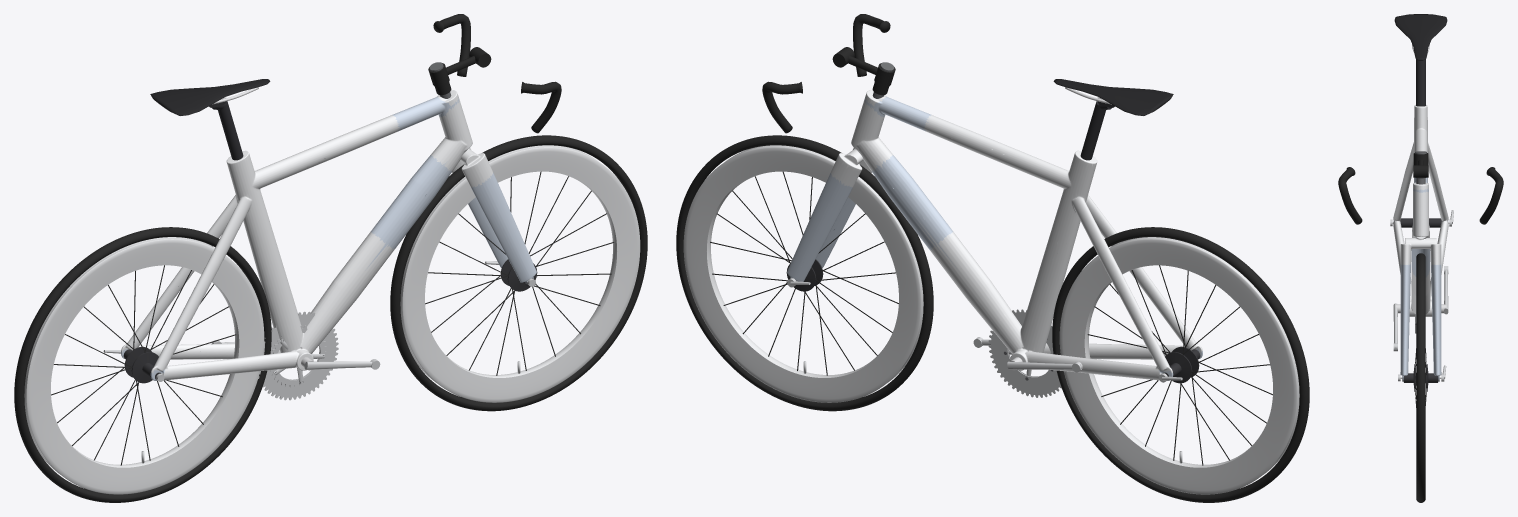
Rendered from bike_web_raw.glb.
3 renders of one model, left to right at view 1: azimuth 30°, elevation 25°; view 2: azimuth 150°, elevation 25°; view 3: azimuth 270°, elevation 25°, orthographic. The views are drawn at different scales.
Parts seen in each view (by area): view 1: frame, rim_rear, rim_front, tyre_rear, tyre_front, fork, spokes_front, chainrings, spokes_rear, saddle, dropbar, stem (+3 smaller); view 2: frame, rim_rear, rim_front, tyre_rear, tyre_front, fork, spokes_front, spokes_rear, saddle, chainrings, dropbar, stem (+3 smaller); view 3: frame, fork, tyre_front, saddle, dropbar, crank_arms, stem, seatpost, hub_front, hub_rear.
Boxes of the visible parts, x1,y1,x2,y2 form: frame: [121, 90, 472, 380]; rim_rear: [24, 237, 264, 494]; rim_front: [400, 145, 640, 402]; tyre_rear: [14, 227, 271, 502]; tyre_front: [390, 135, 647, 411]; fork: [452, 147, 536, 283]; spokes_front: [425, 171, 614, 375]; chainrings: [258, 311, 338, 400]; spokes_rear: [51, 265, 236, 465]; saddle: [150, 79, 270, 115]; dropbar: [433, 14, 561, 133]; stem: [428, 47, 491, 98]; frame: [851, 90, 1202, 380]; rim_rear: [1059, 237, 1299, 494]; rim_front: [683, 145, 923, 402]; tyre_rear: [1052, 227, 1309, 502]; tyre_front: [676, 135, 933, 411]; fork: [787, 147, 871, 281]; spokes_front: [710, 171, 898, 375]; spokes_rear: [1087, 265, 1272, 465]; saddle: [1053, 79, 1173, 115]; chainrings: [988, 309, 1061, 397]; dropbar: [762, 14, 890, 133]; stem: [832, 47, 895, 98]; frame: [1393, 105, 1448, 316]; fork: [1400, 238, 1441, 381]; tyre_front: [1416, 253, 1425, 502]; saddle: [1394, 14, 1447, 60]; dropbar: [1338, 167, 1503, 224]; crank_arms: [1393, 266, 1448, 351]; stem: [1413, 151, 1428, 184]; seatpost: [1416, 59, 1425, 106]; hub_front: [1402, 364, 1439, 391]; hub_rear: [1400, 218, 1441, 227].
Bounding box in the file's own units: 1.66 × 0.9827 × 0.4466.
